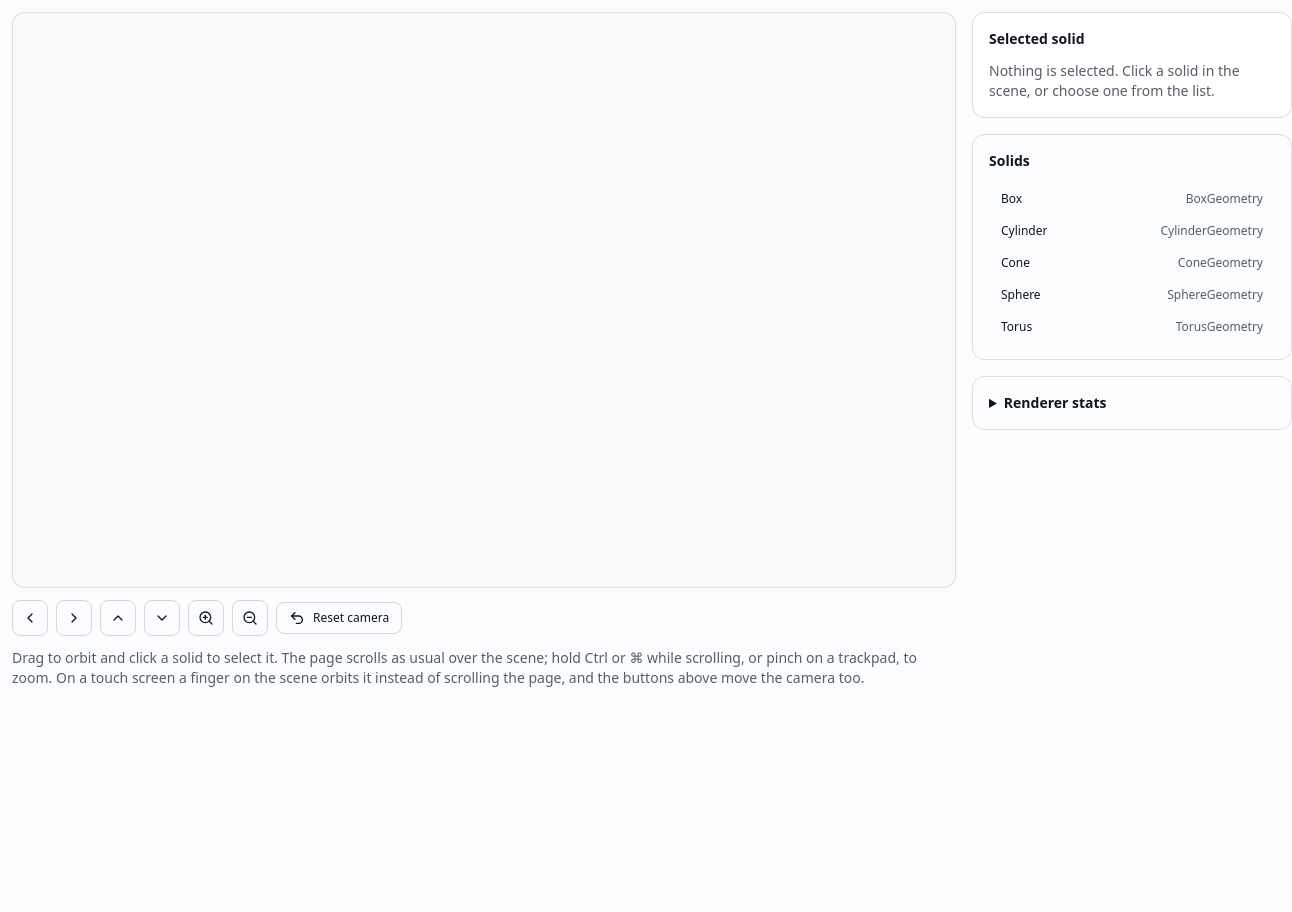
Test: selecting a solid › selects from the list, tells the scene, and shows what is known about it
This screenshot has width=1292, height=912.
Click the button "Cone ConeGeometry": [1220, 262] box 989,247 -> 1275,279
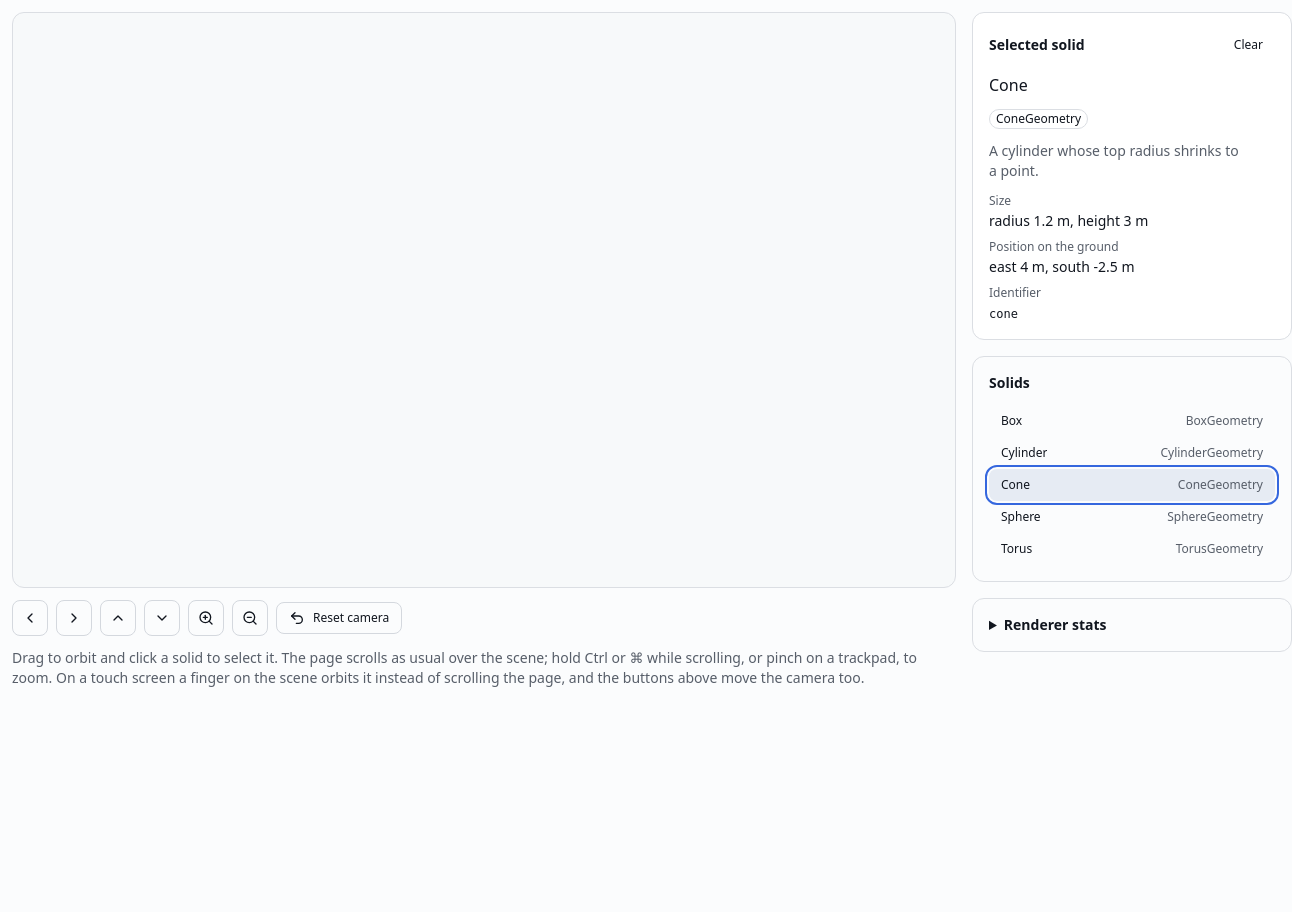
Expected: the text "ConeGeometry" below "Selected solid" is shown, 996,110 -> 1081,127
Expected: the text "radius 1.2 m, height 3 m" is shown, 989,211 -> 1148,230
Expected: the text "east 4 m, south -2.5 m" is shown, 989,257 -> 1134,276
